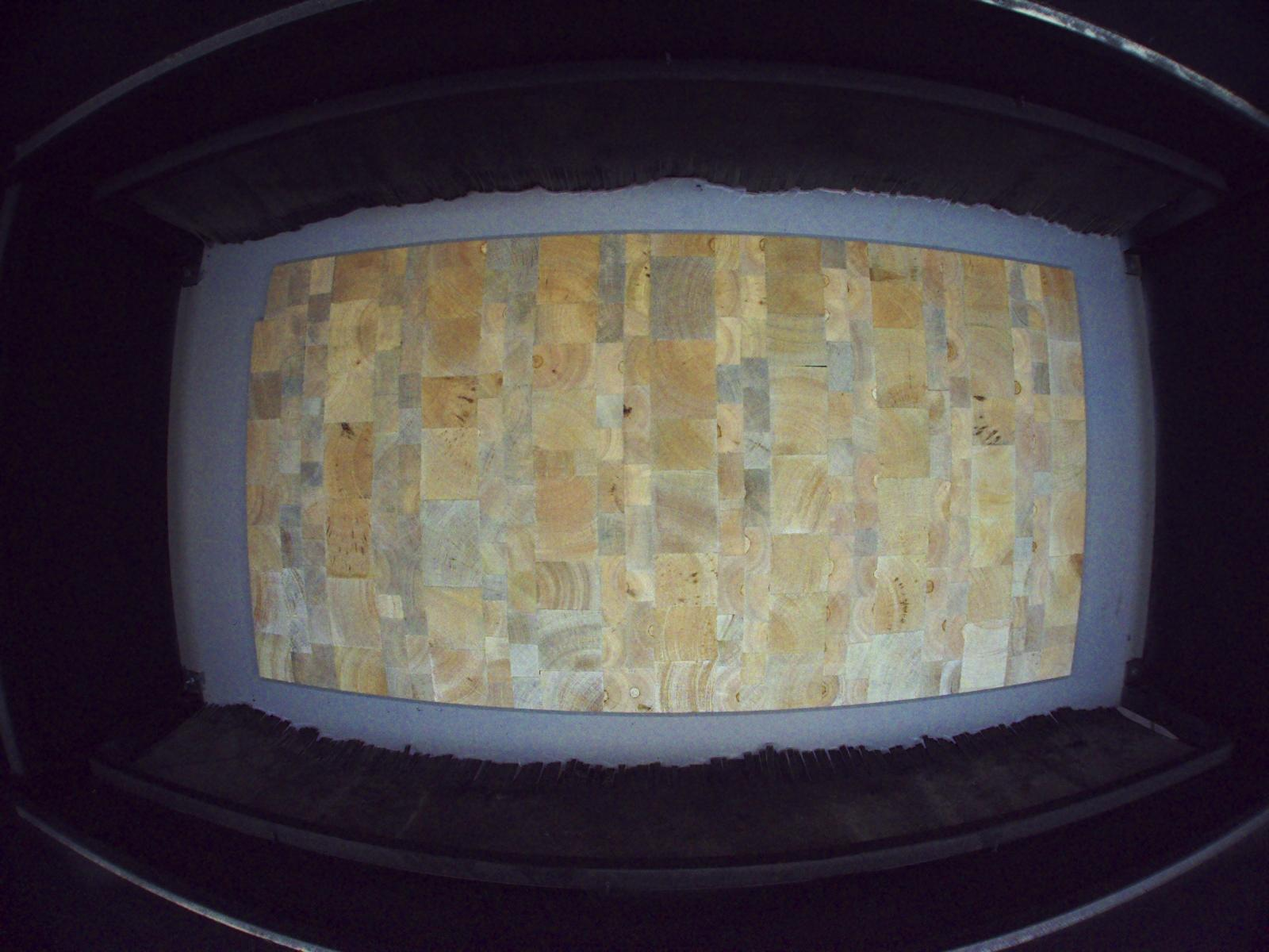nudillo: (340, 421, 357, 439)
